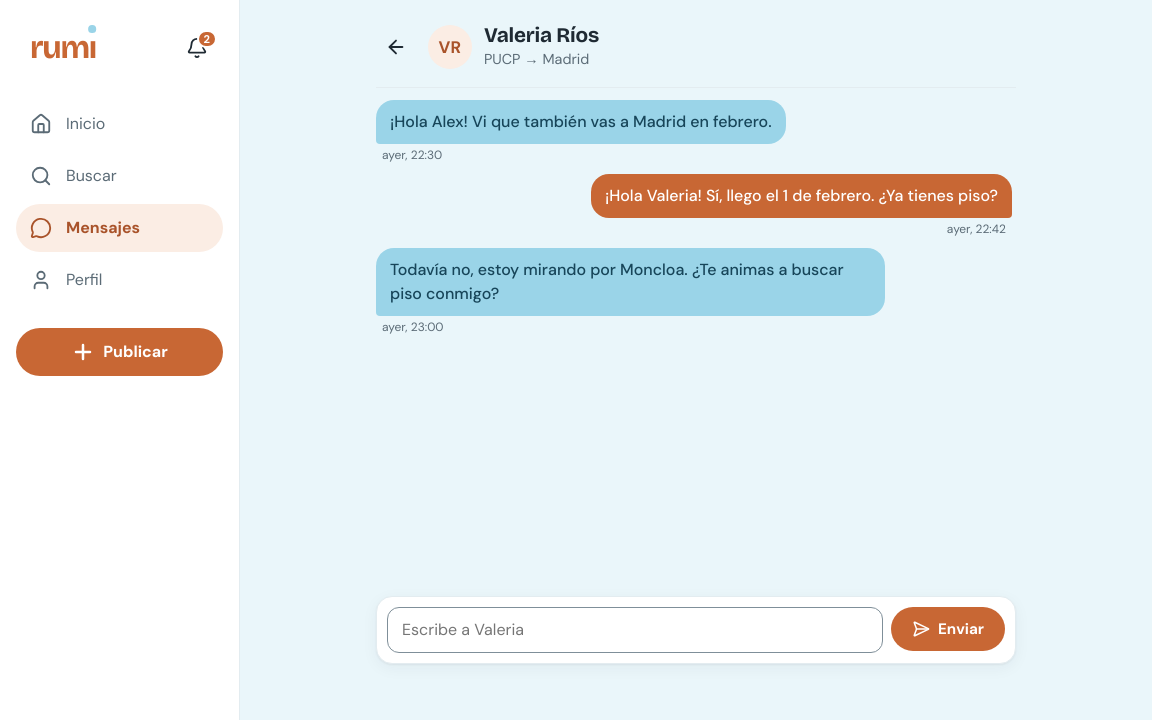
Test case: muestra el historial, envía y recibe la respuesta automática
Check: the number of list items is 3, box [376,100,786,164]; [591,174,1012,238]; [376,248,885,336]
Type "Hola Valeria" into the field named "Mensaje" at (635, 630), box [387,607,883,653]
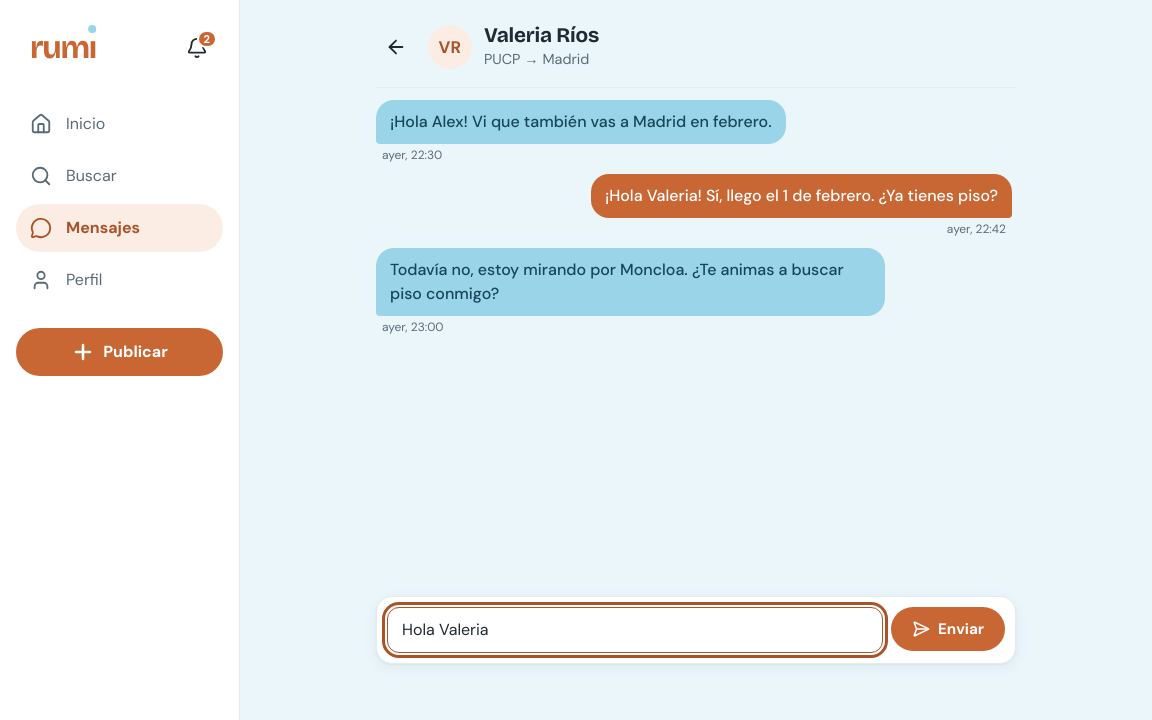
Click the button "Enviar" at (948, 629), box [891,607,1005,651]
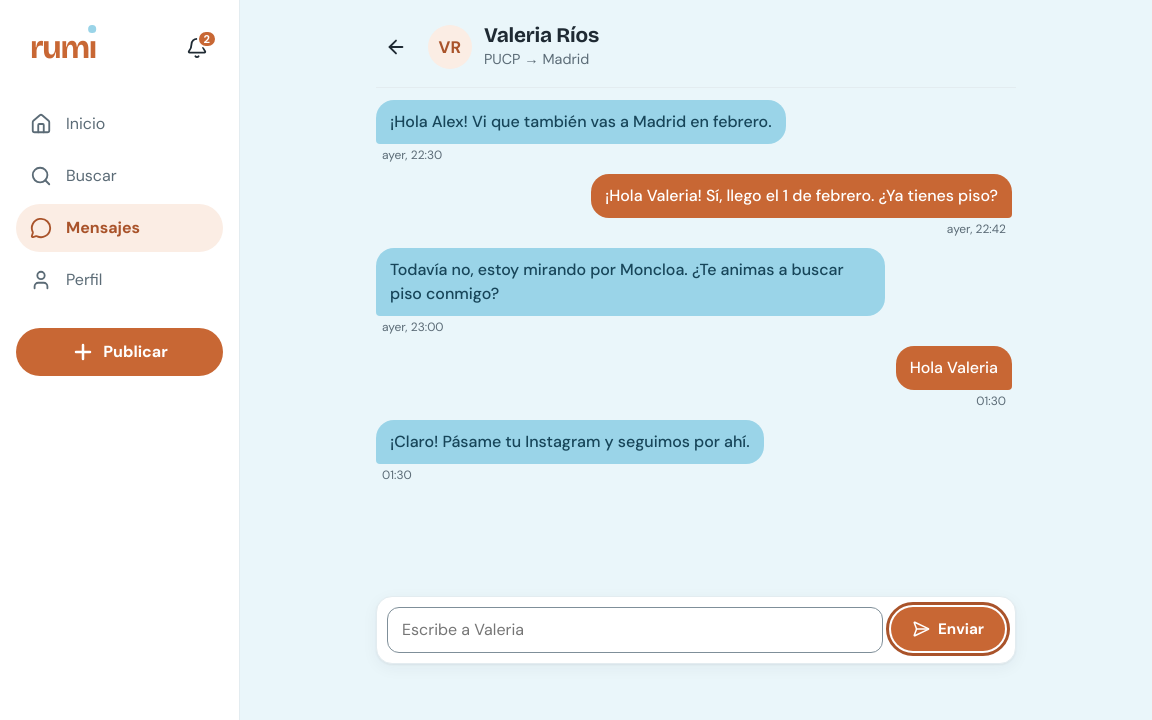
Check: the text "Hola Valeria" is shown, box [896,346,1012,390]
Check: the field named "Mensaje" is empty, box [387,607,883,653]
Check: the number of list items is 5, box [376,100,786,164]; [591,174,1012,238]; [376,248,885,336]; [896,346,1012,410]; [376,420,764,484]
